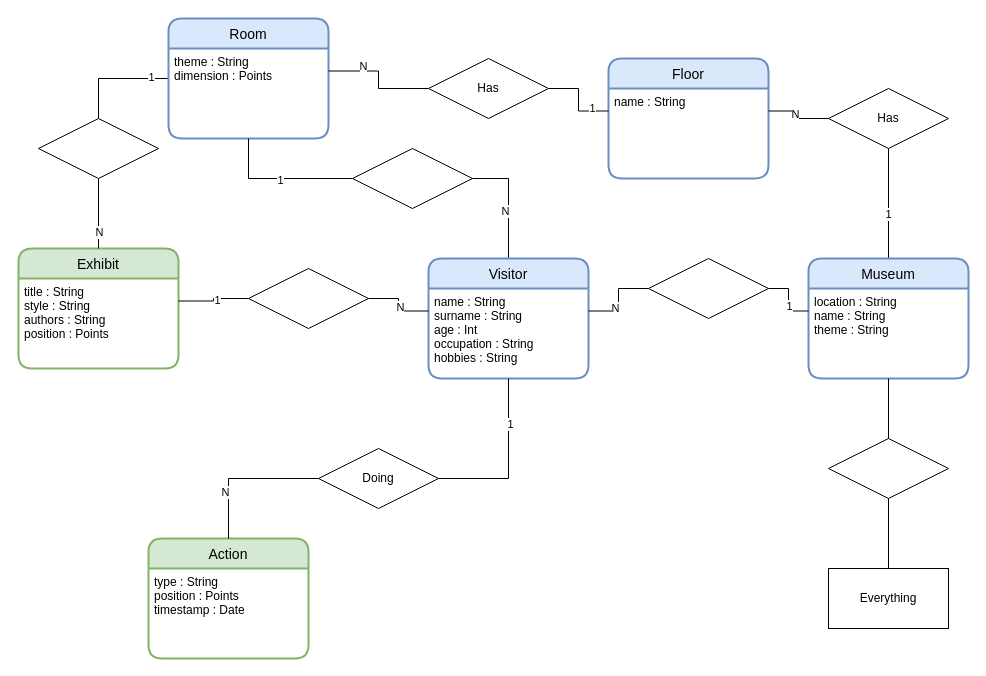
The diagram is 986 pixels wide and 676 high, and some of its shapes have lost their labels. The shapes that lost their labels are listed below. From the top down, each one's centre as x and y in pixels, then its label:
[98,148]: Contains
[412,178]: Is in
[308,298]: is looking at
[708,288]: Visiting
[888,468]: spatialPartOf
